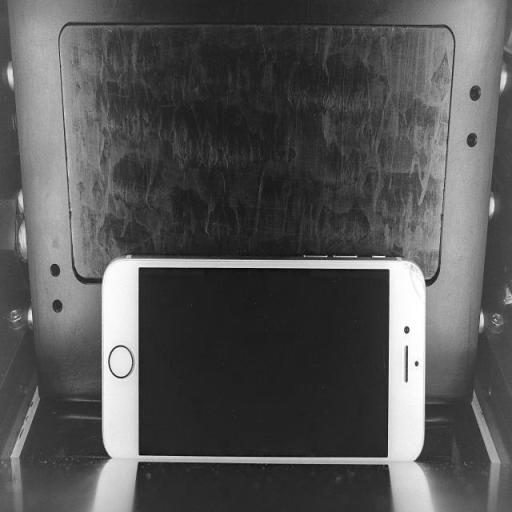phone: (97, 248, 426, 468)
